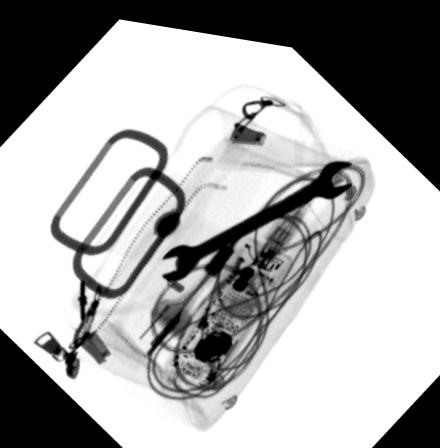Wrench: (158, 146, 356, 276)
